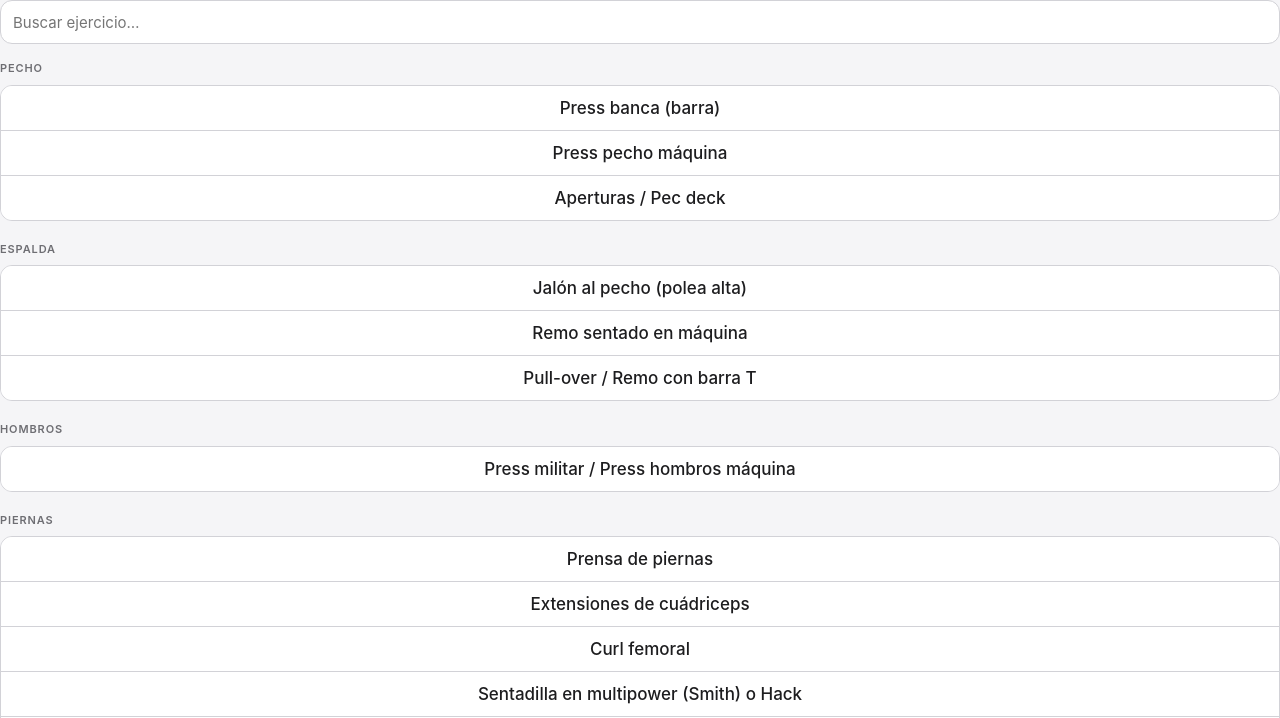
Test: <ExercisePicker /> › hides categories that have no matching exercises
The image size is (1280, 718).
// "correr" only belongs to Cardio
Type "correr" into the search field.
click(640, 22); type("correr")  # box [0,0,1279,44]
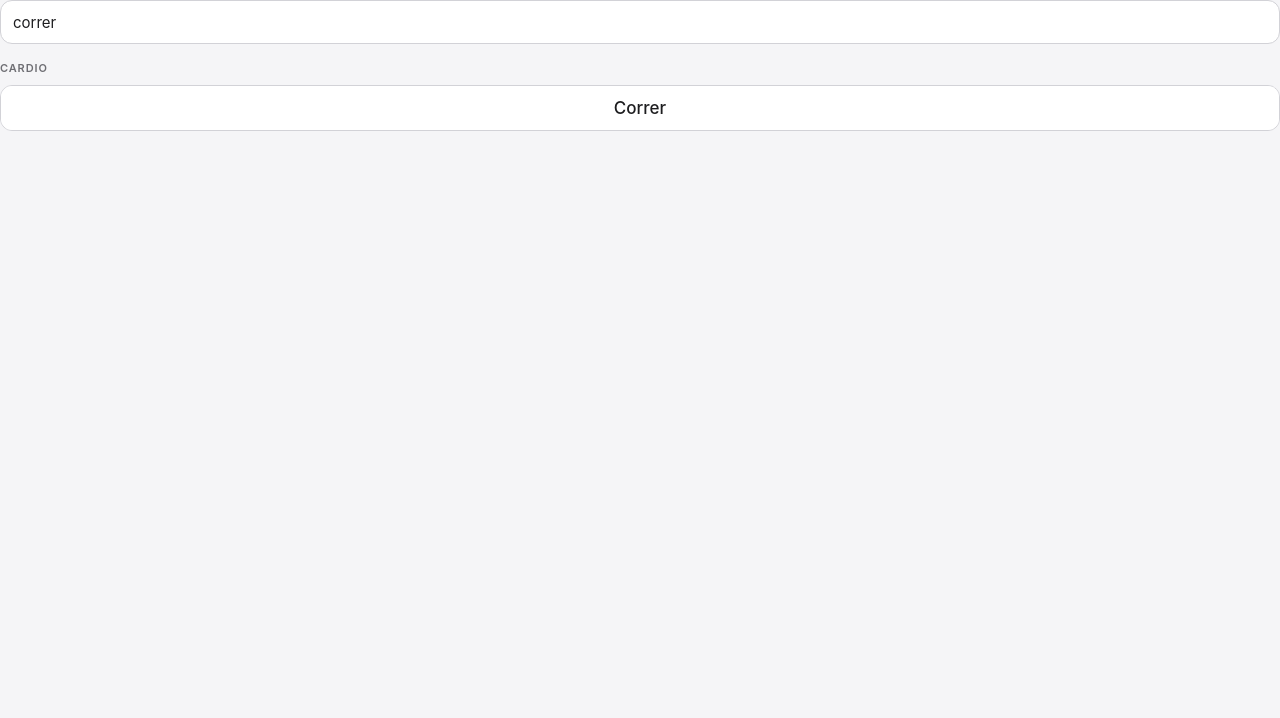
Check: the heading reads "Cardio", box [0,61,48,75]
Check: the number of headings is 1, box [0,61,48,75]
